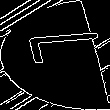L_E: (8, 36, 102, 74)
